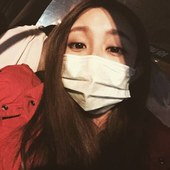face_mask: (62, 8, 129, 112)
